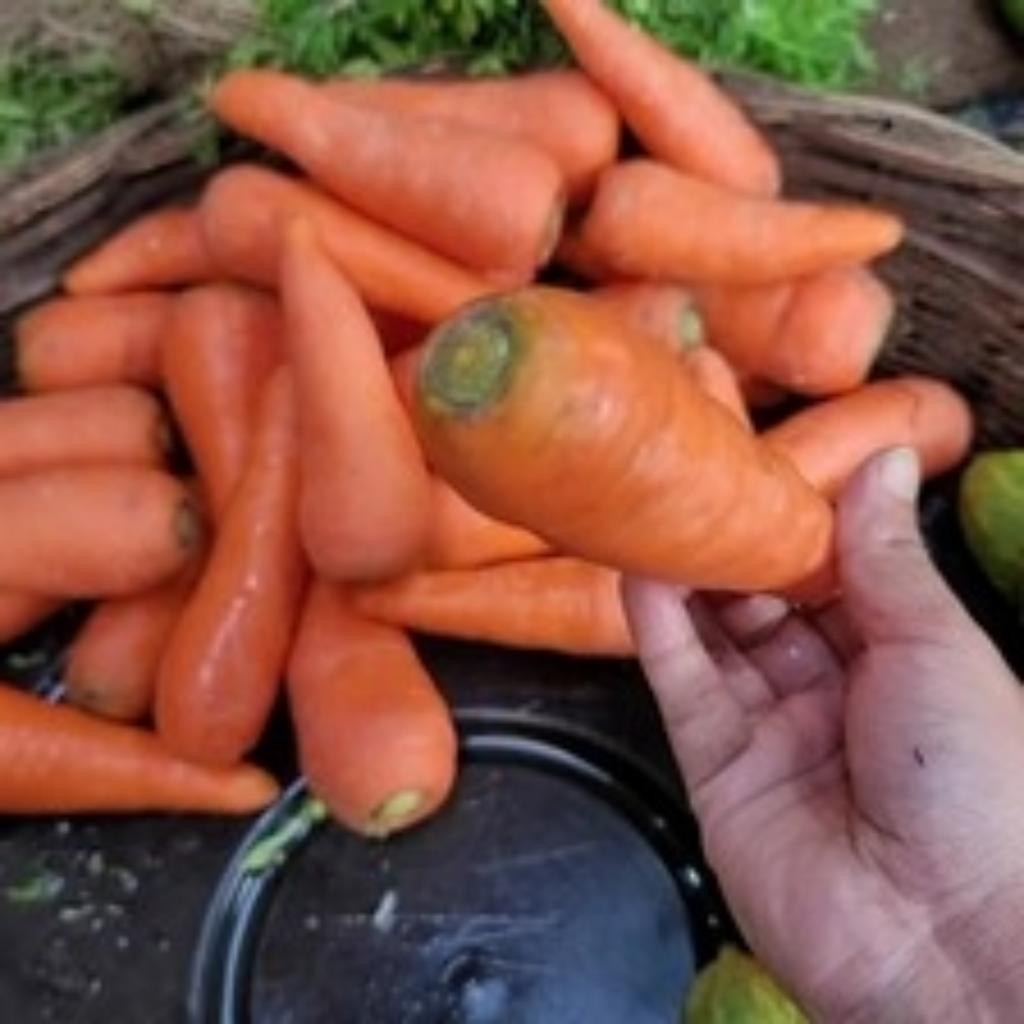carrot: (0, 0, 960, 827), (741, 379, 814, 425)
